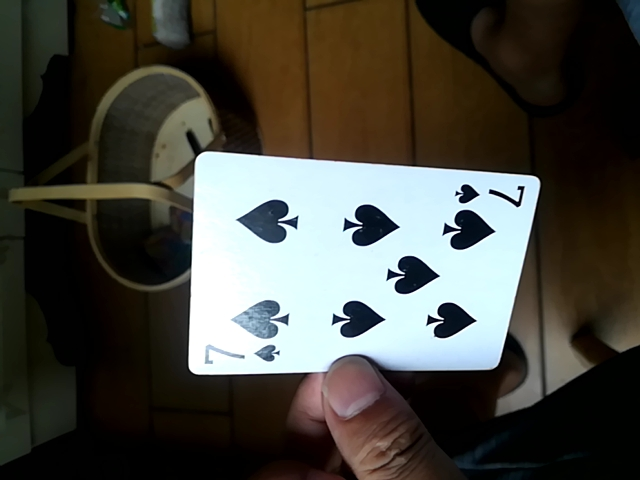ht 7: (190, 156, 540, 379)
